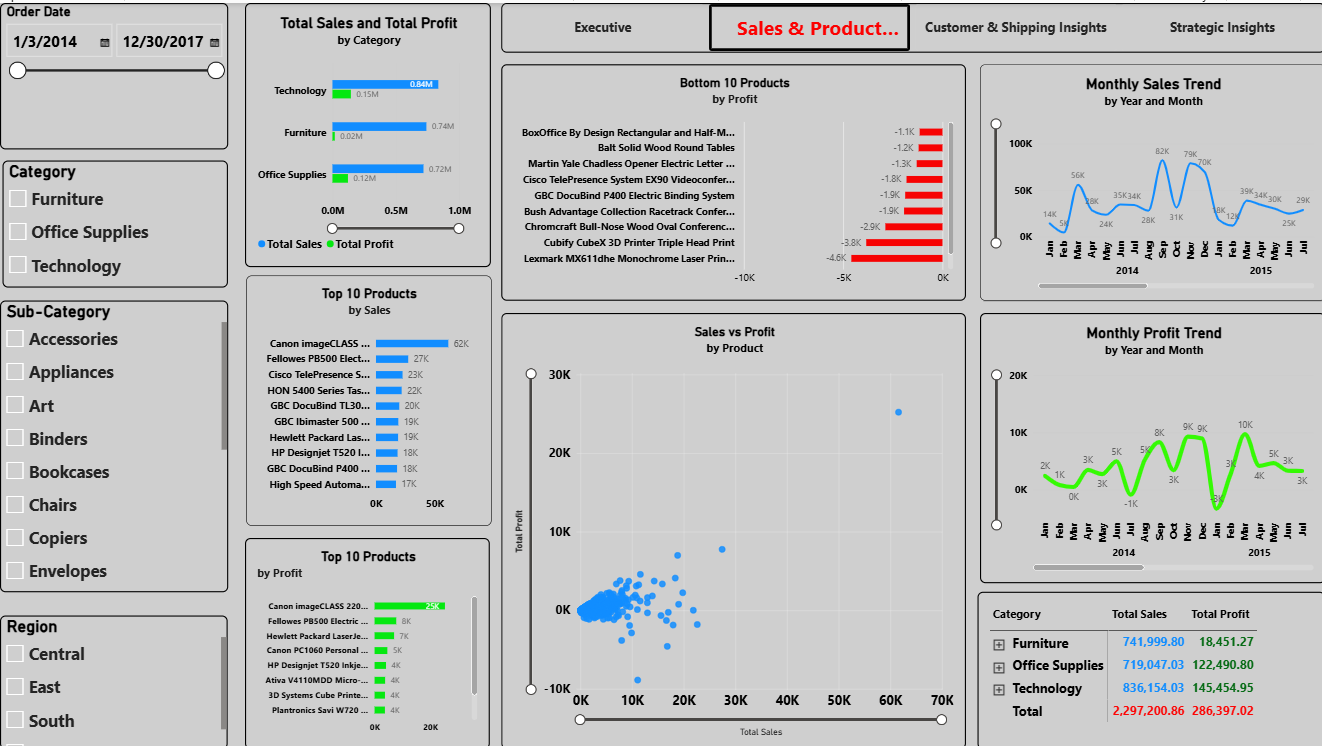

Layout of this report page (visuals, bound fields, positions):
{"tool":"powerbi","page":{"name":"Sales & Product Analysis","canvas":[1920,1080],"ordinal":1},"visuals":[{"type":"clusteredBarChart","title":"Top 10 Products","fields":{"Category":["superstore_project superstore_cleaned.Product Name"],"Y":["superstore_project superstore_cleaned.Total Sales"]},"box":[356.5,394.5,355,362.5],"z":0},{"type":"clusteredBarChart","title":"Top 10 Products","fields":{"Category":["superstore_project superstore_cleaned.Product Name"],"Y":["superstore_project superstore_cleaned.Total Profit"]},"box":[354.7,774.5,354.7,305.8],"z":1000},{"type":"clusteredBarChart","title":"Bottom 10 Products","fields":{"Category":["superstore_project superstore_cleaned.Product Name"],"Y":["superstore_project superstore_cleaned.Total Profit"]},"box":[725.7,88.7,673.2,342],"z":2000},{"type":"clusteredBarChart","fields":{"Category":["superstore_project superstore_cleaned.Category","superstore_project superstore_cleaned.Sub-Category"],"Y":["superstore_project superstore_cleaned.Total Sales","superstore_project superstore_cleaned.Total Profit"]},"box":[354,0,356,382],"z":3000},{"type":"lineChart","title":"Monthly Sales Trend","fields":{"Category":["Calendar.Year","Calendar.Month Name"],"Y":["superstore_project superstore_cleaned.Total Sales"]},"box":[1418.8,88.7,501.3,342],"z":4000},{"type":"lineChart","title":"Monthly Profit Trend","fields":{"Category":["Calendar.Year","Calendar.Month Name"],"Y":["superstore_project superstore_cleaned.Total Profit"]},"box":[1418.8,448.8,501.3,390.9],"z":5000},{"type":"pivotTable","fields":{"Rows":["superstore_project superstore_cleaned.Category","superstore_project superstore_cleaned.Sub-Category"],"Values":["superstore_project superstore_cleaned.Total Sales","superstore_project superstore_cleaned.Total Profit"]},"box":[1415.2,852.4,504.9,228],"z":6000},{"type":"scatterChart","title":"Sales vs Profit","fields":{"X":["superstore_project superstore_cleaned.Total Sales"],"Y":["superstore_project superstore_cleaned.Total Profit"],"Category":["superstore_project superstore_cleaned.Product Name"]},"box":[725.7,448.8,673.2,631.6],"z":7000},{"type":"slicer","fields":{"Values":["superstore_project superstore_cleaned.Order Date"]},"box":[0,0,330,212],"z":8000},{"type":"slicer","fields":{"Values":["superstore_project superstore_cleaned.Category"]},"box":[4,228,326,184],"z":9000},{"type":"slicer","fields":{"Values":["superstore_project superstore_cleaned.Sub-Category"]},"box":[0,430,330,422],"z":10000},{"type":"slicer","fields":{"Values":["superstore_project superstore_cleaned.Region"]},"box":[0,886.7,329.4,193.6],"z":11000},{"type":"pageNavigator","box":[726,0,1194,72],"z":14000}]}

Visuals, with their boxes in screenshot pixels (x1, y1, x2, y2), scaled from the page's 1920x1080 canvas onto the 1322x746 screenshot:
"Top 10 Products" clusteredBarChart: left=245, top=272, right=490, bottom=523
"Top 10 Products" clusteredBarChart: left=244, top=535, right=488, bottom=745
"Bottom 10 Products" clusteredBarChart: left=500, top=61, right=963, bottom=298
clusteredBarChart - superstore_project superstore_cleaned.Category x superstore_project superstore_cleaned.Sub-Category: left=244, top=0, right=489, bottom=264
"Monthly Sales Trend" lineChart: left=977, top=61, right=1321, bottom=298
"Monthly Profit Trend" lineChart: left=977, top=310, right=1321, bottom=580
pivotTable - superstore_project superstore_cleaned.Category x superstore_project superstore_cleaned.Sub-Category: left=974, top=589, right=1321, bottom=745
"Sales vs Profit" scatterChart: left=500, top=310, right=963, bottom=745
slicer - superstore_project superstore_cleaned.Order Date: left=0, top=0, right=227, bottom=146
slicer - superstore_project superstore_cleaned.Category: left=3, top=157, right=227, bottom=285
slicer - superstore_project superstore_cleaned.Sub-Category: left=0, top=297, right=227, bottom=589
slicer - superstore_project superstore_cleaned.Region: left=0, top=612, right=227, bottom=745
pageNavigator: left=500, top=0, right=1321, bottom=50
